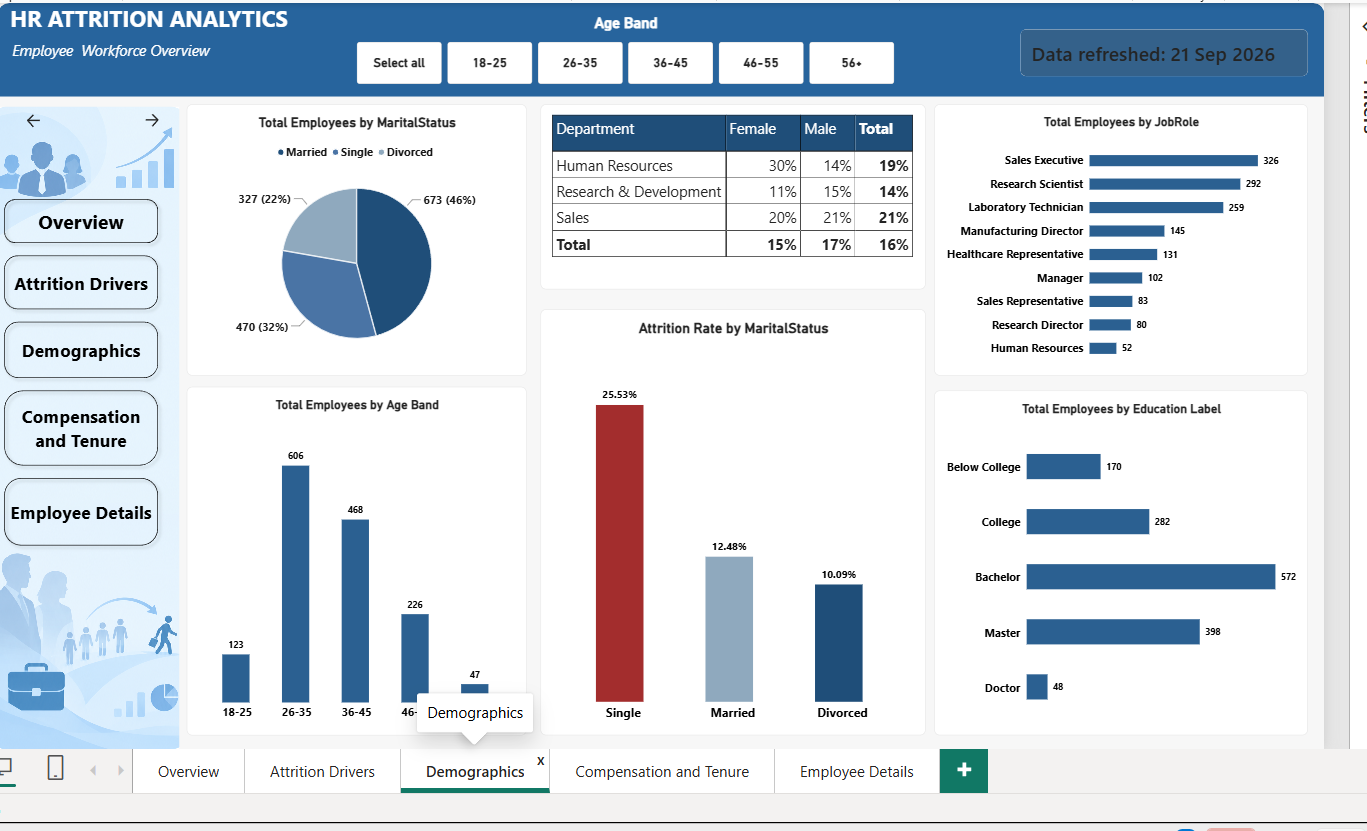

The dashboard page shown, as its layout file describes it:
{"tool":"powerbi","page":{"name":"Demographics","canvas":[1920,1080],"ordinal":2},"visuals":[{"type":"shape","box":[0,0,1920.4,135.8],"z":0},{"type":"cardVisual","fields":{"Data":["HR_Analytics_Cleaned.Last Refreshed"]},"box":[1481.1,37.1,416.7,68.1],"z":1000},{"type":"advancedSlicerVisual","fields":{"Values":["HR_Analytics_Cleaned.Age Band"]},"box":[519.8,16.5,779.7,101.1],"z":2000},{"type":"textbox","box":[0,0,504.3,135.8],"z":3000},{"type":"pieChart","fields":{"Category":["HR_Analytics_Cleaned.MaritalStatus"],"Y":["HR_Analytics_Cleaned.Total Employees"]},"box":[273.3,146.6,492.2,392.7],"z":4000},{"type":"pivotTable","fields":{"Rows":["HR_Analytics_Cleaned.Department"],"Columns":["HR_Analytics_Cleaned.Gender"],"Values":["HR_Analytics_Cleaned.Attrition Rate"]},"box":[785.4,146.6,557.4,267.8],"z":5000},{"type":"clusteredBarChart","fields":{"Category":["HR_Analytics_Cleaned.Education Label"],"Y":["HR_Analytics_Cleaned.Total Employees"]},"box":[1355.4,561,541.1,499.5],"z":6000},{"type":"barChart","fields":{"Category":["HR_Analytics_Cleaned.JobRole"],"Y":["HR_Analytics_Cleaned.Total Employees"]},"box":[1355.4,146.6,541.1,392.7],"z":7000},{"type":"clusteredColumnChart","fields":{"Category":["HR_Analytics_Cleaned.Age Band"],"Y":["HR_Analytics_Cleaned.Total Employees"]},"box":[273.3,555.6,492.2,504.9],"z":8000},{"type":"clusteredColumnChart","fields":{"Category":["HR_Analytics_Cleaned.MaritalStatus"],"Y":["HR_Analytics_Cleaned.Attrition Rate"]},"box":[785.4,443.4,557.4,617.1],"z":9000},{"type":"image","box":[0,149.8,262.4,930.2],"z":10000},{"type":"shape","box":[0,275.1,240.7,81.4],"z":11000},{"type":"shape","box":[0,356.5,240.7,95.9],"z":12000},{"type":"shape","box":[0,452.4,240.7,99.5],"z":13000},{"type":"shape","box":[0,551.9,240.7,126.7],"z":14000},{"type":"shape","box":[0,678.6,240.7,115.8],"z":15000},{"type":"actionButton","box":[171.9,150.2,101.3,39.8],"z":16000},{"type":"actionButton","box":[1.8,150.2,100,40],"z":17000}]}

Visuals, with their boxes on the page's 1920x1080 design canvas (x1, y1, x2, y2). These are canvas units, not pixel positions in the 1367x831 screenshot, which may show the page scaled, cropped or inside an application window:
shape: 0, 0, 1920, 136
cardVisual - HR_Analytics_Cleaned.Last Refreshed: 1481, 37, 1898, 105
advancedSlicerVisual - HR_Analytics_Cleaned.Age Band: 520, 16, 1300, 118
textbox: 0, 0, 504, 136
pieChart - HR_Analytics_Cleaned.MaritalStatus x HR_Analytics_Cleaned.Total Employees: 273, 147, 766, 539
pivotTable - HR_Analytics_Cleaned.Department x HR_Analytics_Cleaned.Gender: 785, 147, 1343, 414
clusteredBarChart - HR_Analytics_Cleaned.Education Label x HR_Analytics_Cleaned.Total Employees: 1355, 561, 1896, 1060
barChart - HR_Analytics_Cleaned.JobRole x HR_Analytics_Cleaned.Total Employees: 1355, 147, 1896, 539
clusteredColumnChart - HR_Analytics_Cleaned.Age Band x HR_Analytics_Cleaned.Total Employees: 273, 556, 766, 1060
clusteredColumnChart - HR_Analytics_Cleaned.MaritalStatus x HR_Analytics_Cleaned.Attrition Rate: 785, 443, 1343, 1060
image: 0, 150, 262, 1080
shape: 0, 275, 241, 356
shape: 0, 356, 241, 452
shape: 0, 452, 241, 552
shape: 0, 552, 241, 679
shape: 0, 679, 241, 794
actionButton: 172, 150, 273, 190
actionButton: 2, 150, 102, 190
